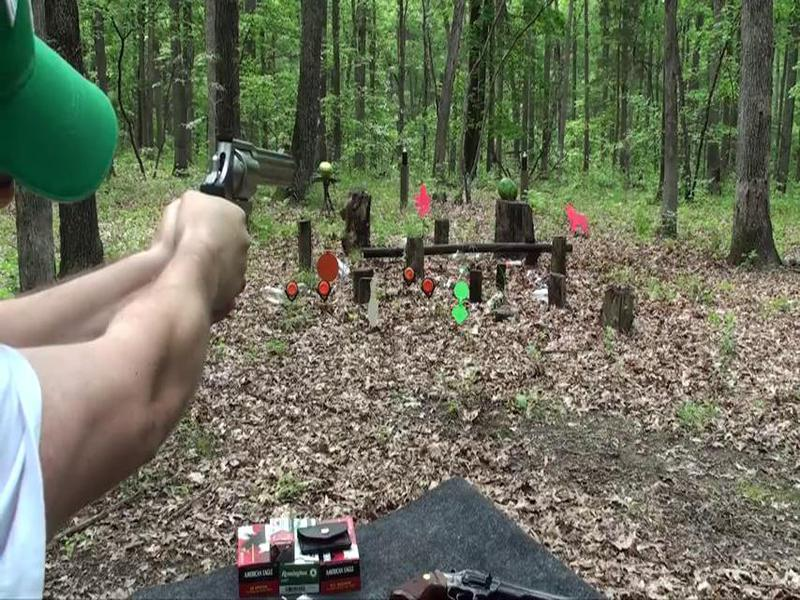Revolver: (181, 131, 301, 237)
